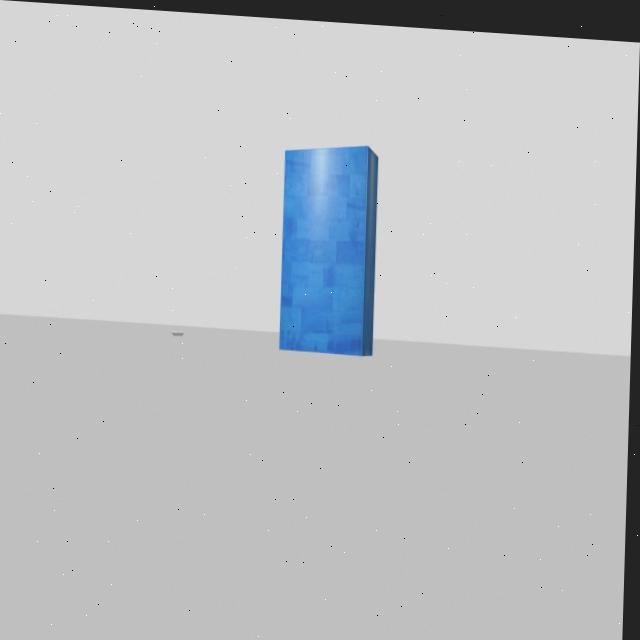bowl: (168, 322, 193, 342)
shelf: (266, 125, 391, 366)
